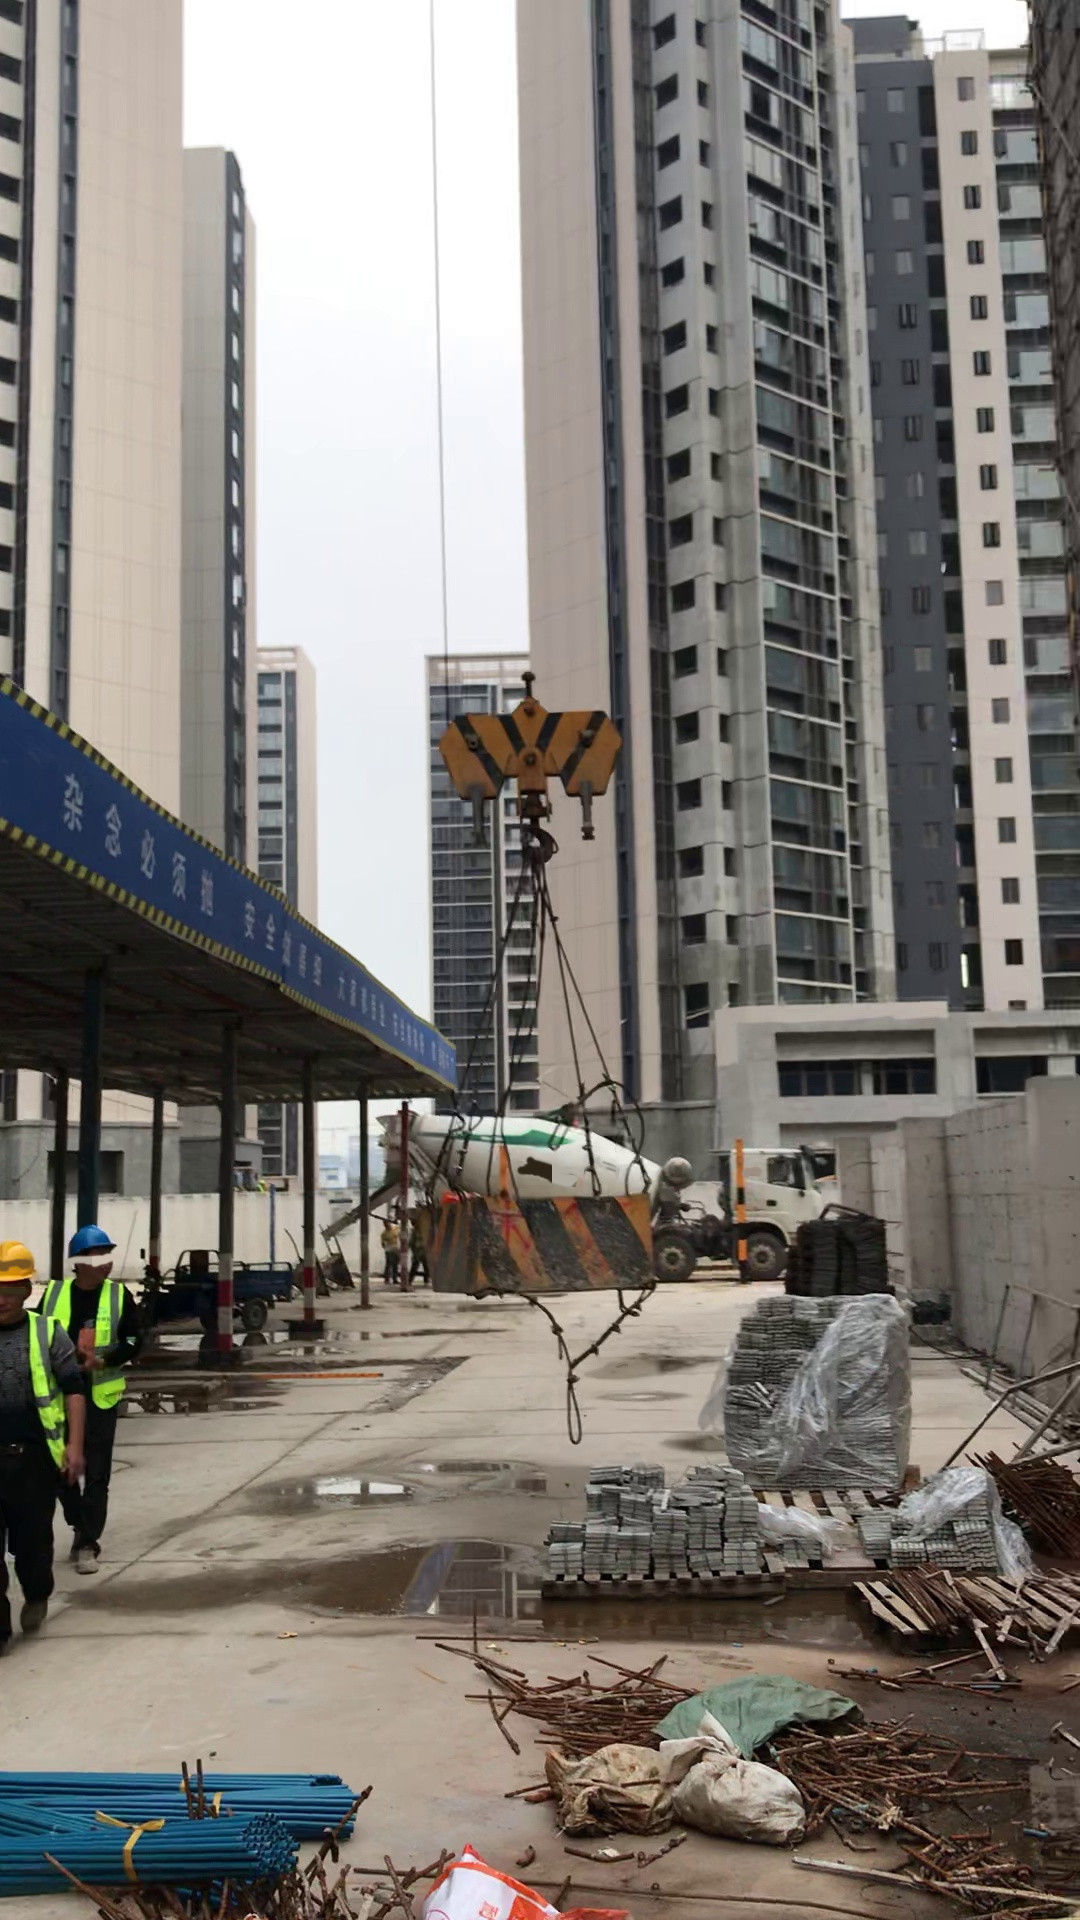handcart: (292, 1215, 357, 1291)
helmet: (2, 1222, 38, 1297), (70, 1211, 114, 1269)
hook: (435, 665, 624, 823)
person: (49, 1213, 149, 1563), (1, 1224, 64, 1644)
slogan: (18, 756, 456, 1086)
vest: (28, 1291, 134, 1433)
